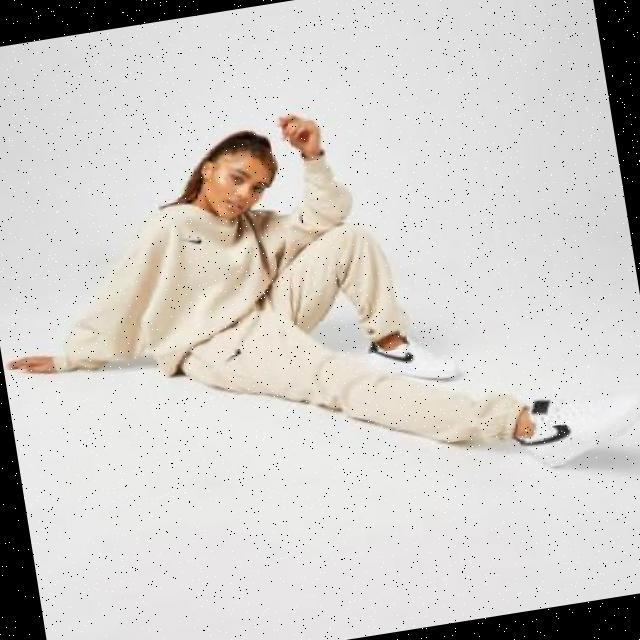Nike: (523, 419, 574, 446), (379, 347, 417, 365), (227, 346, 246, 362), (186, 234, 205, 245)
